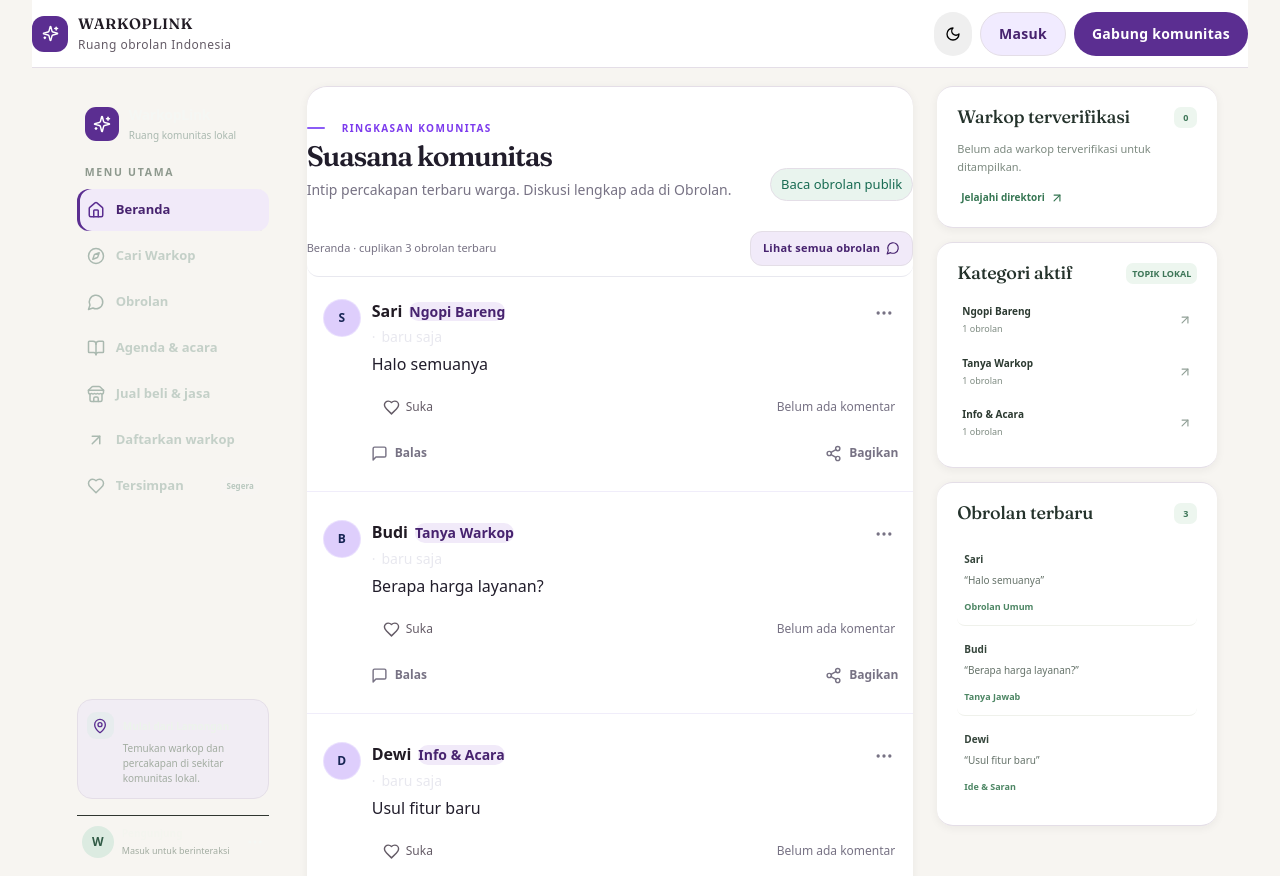
halaman publik › navigasi dashboard menyaring feed ke kategori yang dipilih
Expected: the text "Halo semuanya" is shown, [372,353,488,375]
Click the button with aria-label "Desktop: Jual beli & jasa" at (173,394), box [77,373,269,415]
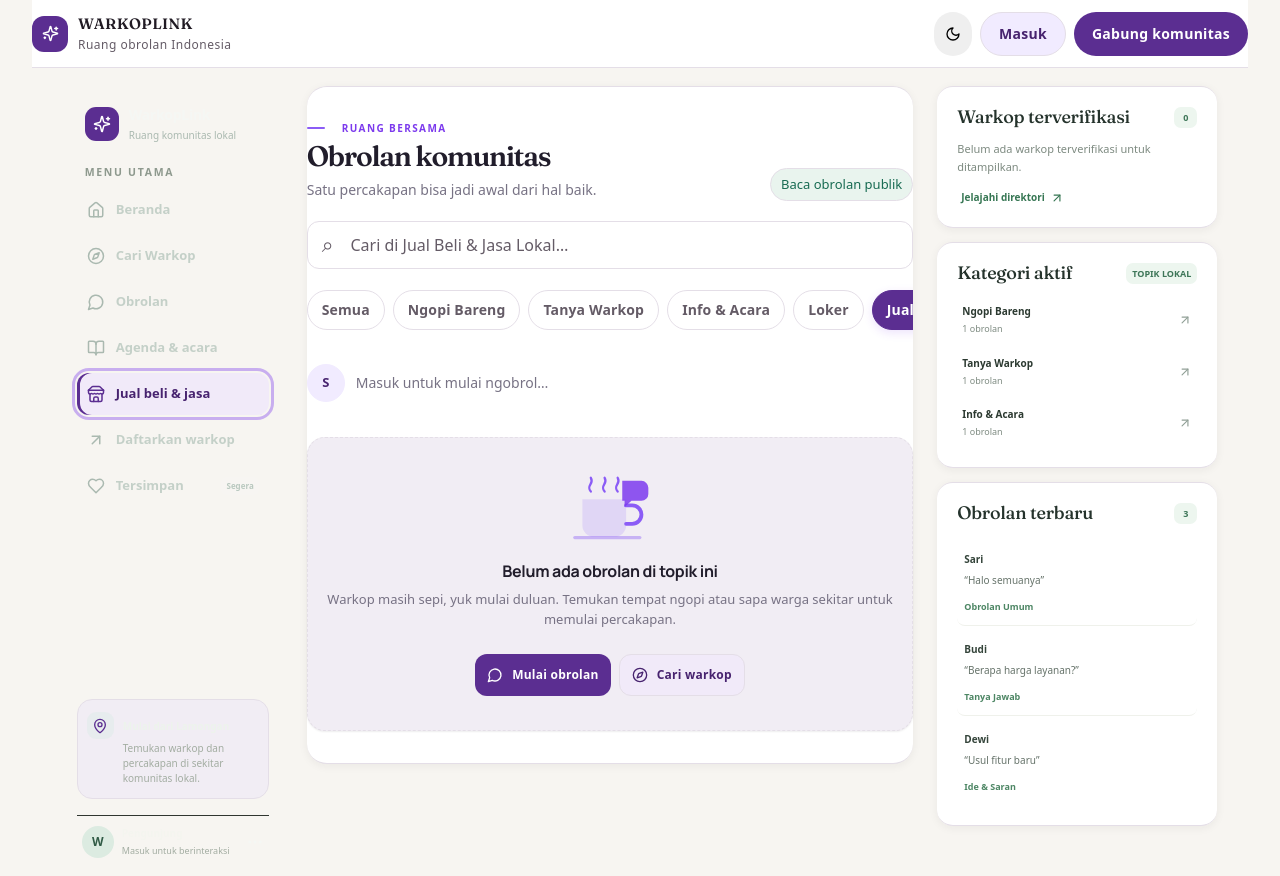
Expected: the heading "Belum ada obrolan di topik ini" is shown, [502,560,718,582]
